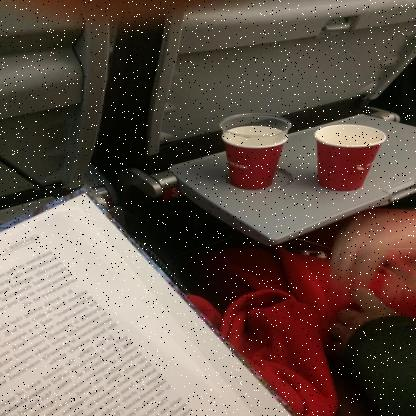cardboard: (314, 125, 386, 191), (226, 126, 288, 190)
